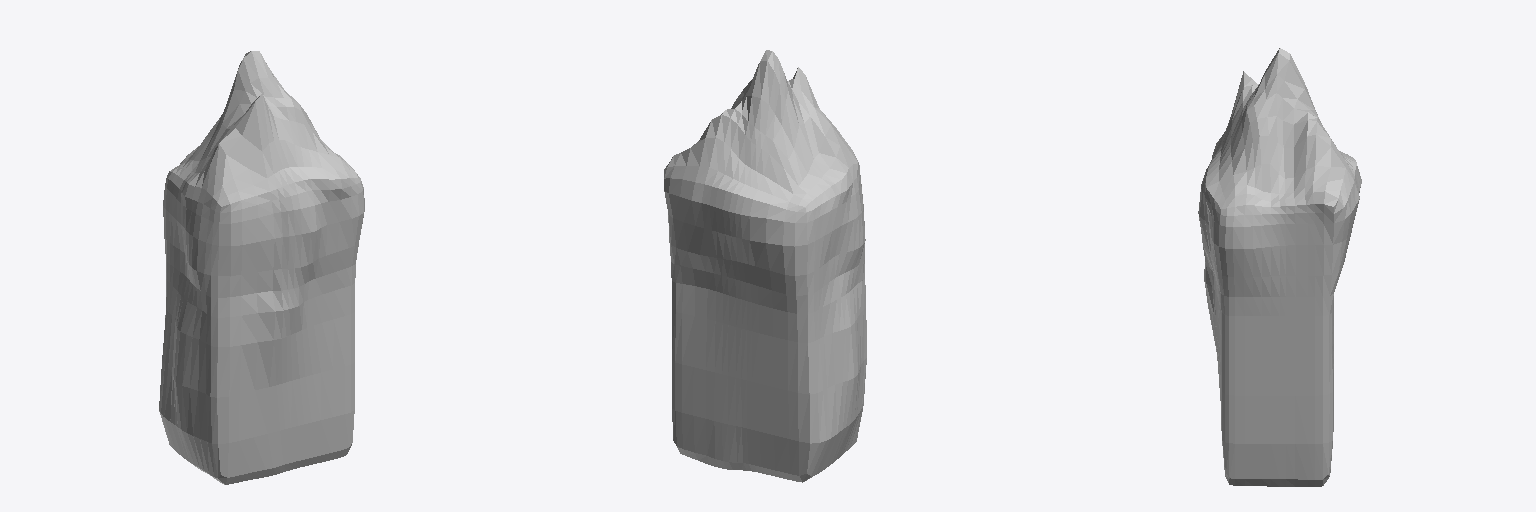
File: PM3D_rock010_001.OBJ
3 views of the same model, side by side, from view 1: azimuth 30°, elevation 25°; view 2: azimuth 150°, elevation 25°; view 3: azimuth 270°, elevation 25° (orthographic).
Visible parts, largest first — view 1: Group39109; view 2: Group39109; view 3: Group39109.
Part boxes in pixels (bbox=[...]): Group39109: bbox=[159, 51, 364, 484]; Group39109: bbox=[664, 50, 866, 482]; Group39109: bbox=[1198, 48, 1361, 486].
Size of the model in its own units: 4405 by 10422 by 3743.